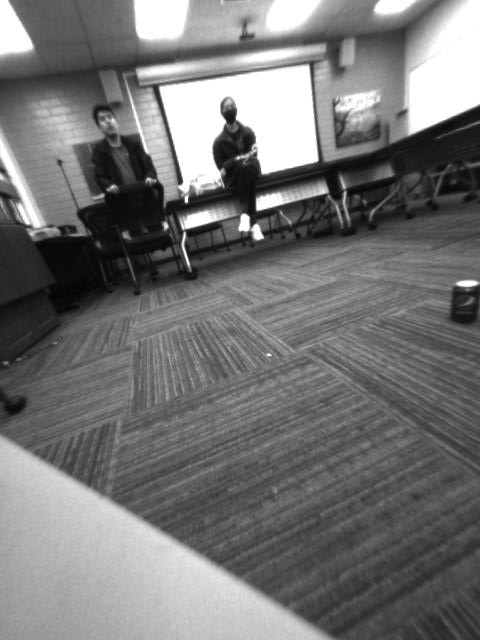can: (446, 274, 480, 331)
